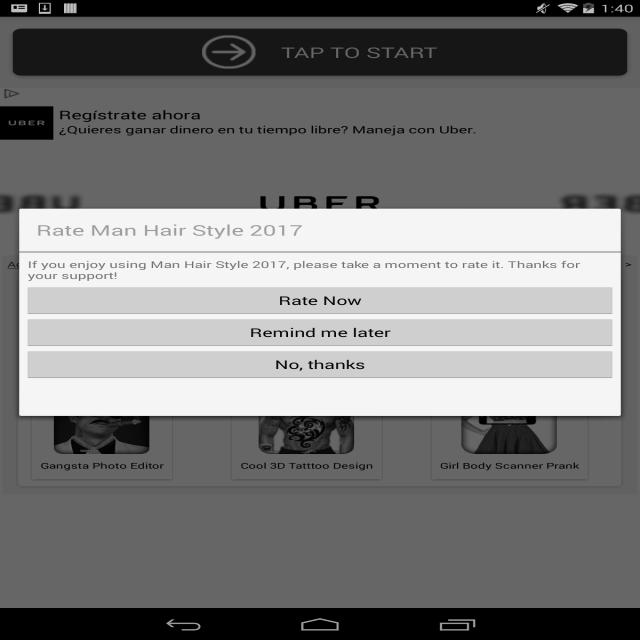Button: (7, 26, 634, 80), (24, 349, 618, 380), (20, 316, 618, 346), (22, 286, 618, 314)
ImageView: (460, 416, 559, 454), (258, 416, 353, 454), (54, 417, 150, 453)
TextView: (22, 256, 591, 274), (32, 220, 306, 238), (59, 108, 208, 135), (220, 124, 479, 138), (237, 459, 379, 475), (437, 459, 588, 474), (37, 460, 171, 476)
